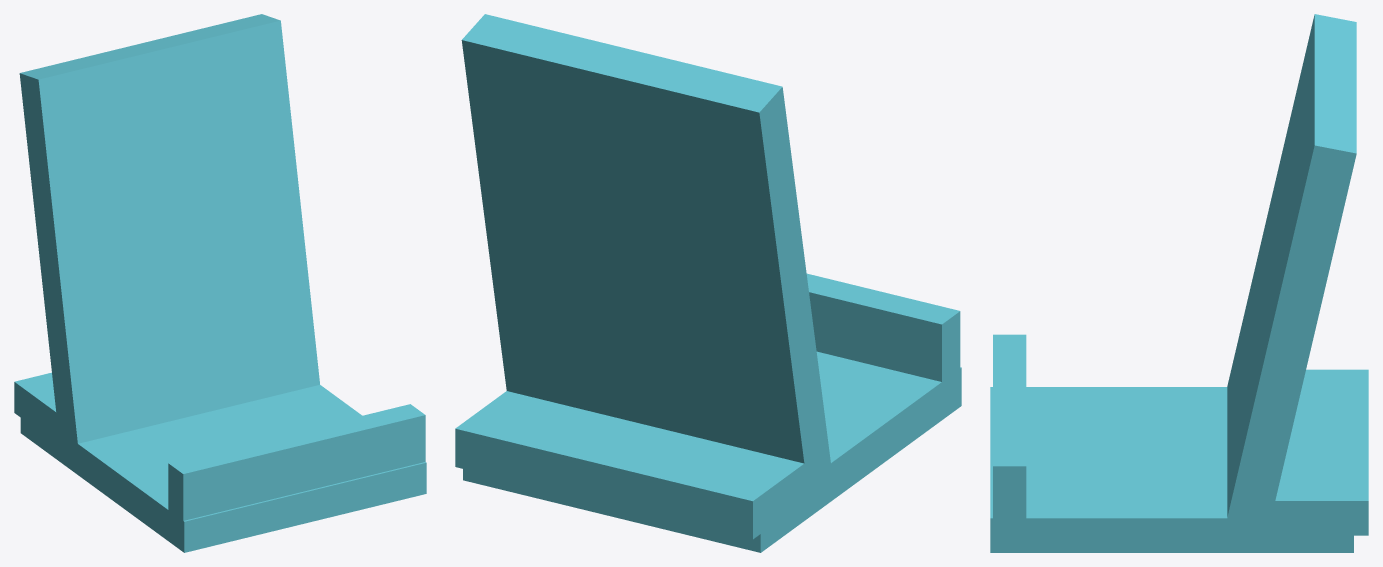
Rendered from stand.glb.
3 renders of one model, left to right at view 1: azimuth 30°, elevation 25°; view 2: azimuth 150°, elevation 25°; view 3: azimuth 270°, elevation 25°, orthographic. The views are drawn at different scales.
Size of the model in its own units: 65 by 93.97 by 79.
